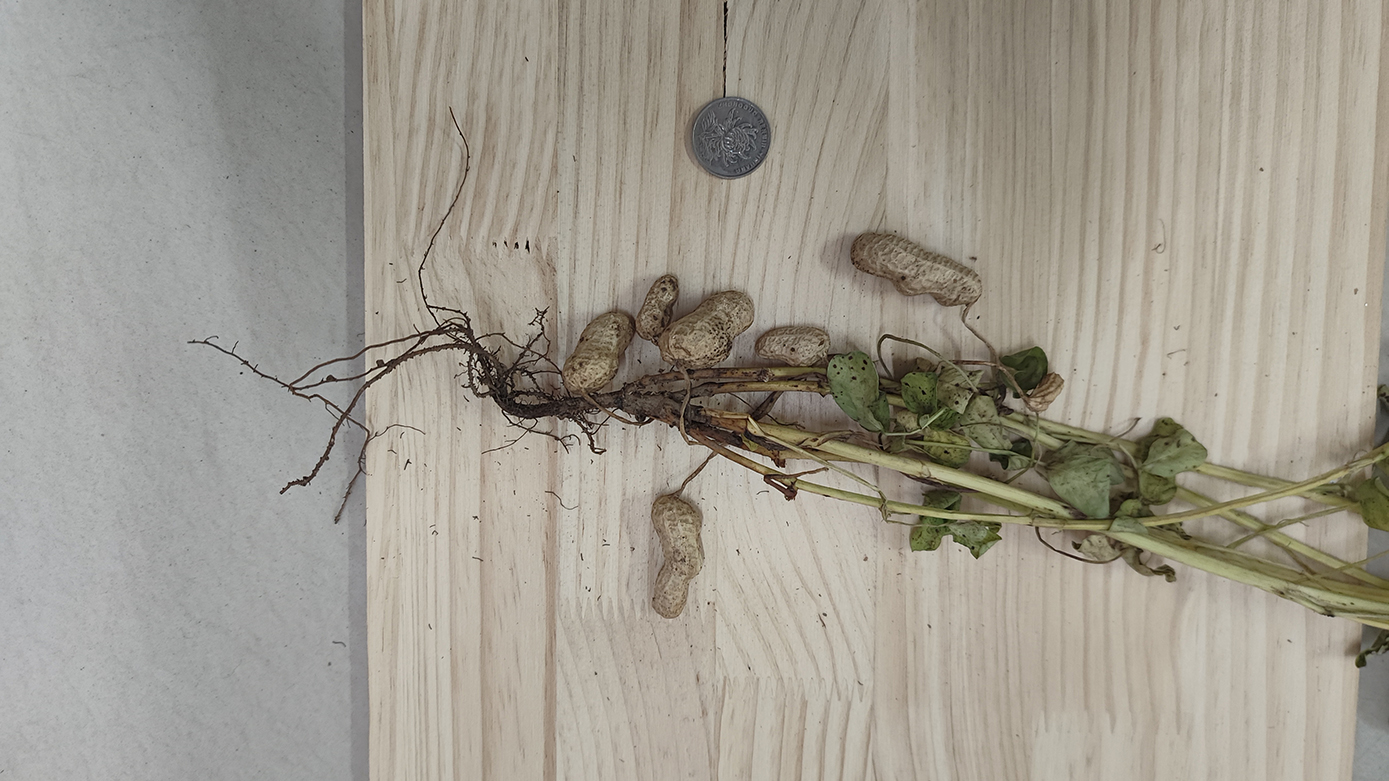h: (850, 232, 982, 306), (659, 292, 754, 370), (651, 497, 704, 618), (562, 312, 632, 396), (753, 326, 831, 368), (635, 275, 679, 339)
l: (1028, 372, 1064, 412)
